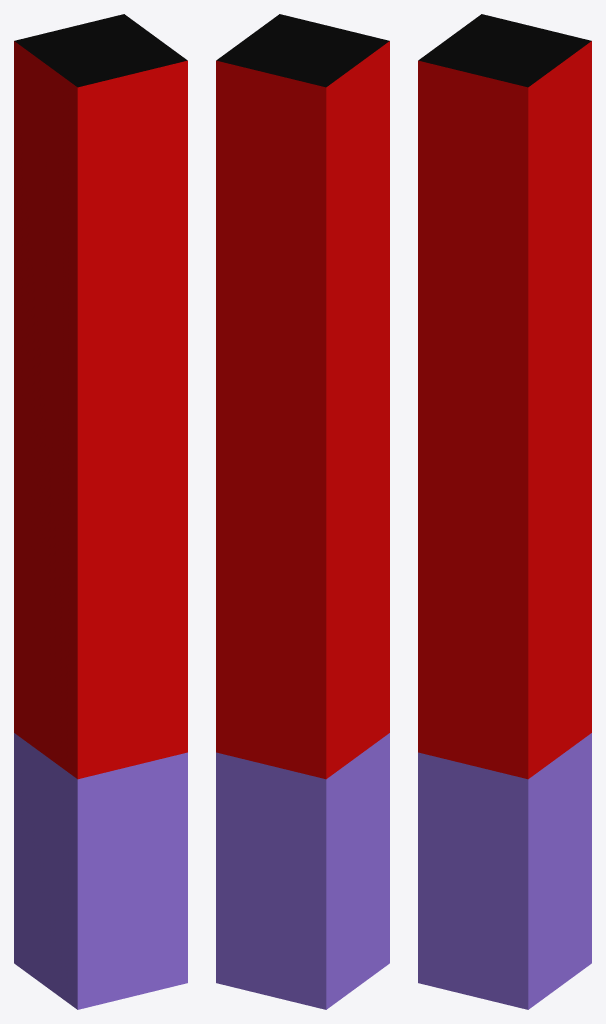
The model's file is Wall4x05.fbx.
3 views of the same model, side by side, from view 1: azimuth 30°, elevation 25°; view 2: azimuth 150°, elevation 25°; view 3: azimuth 330°, elevation 25° (orthographic).
Visible parts, largest first — view 1: Wall_4x1; view 2: Wall_4x1; view 3: Wall_4x1.
Part boxes in pixels (x1,y1,x2,y2): Wall_4x1: [14, 14, 187, 1009]; Wall_4x1: [216, 14, 389, 1009]; Wall_4x1: [418, 14, 591, 1009].
Bounding box in the file's own units: 50 × 400 × 50.
